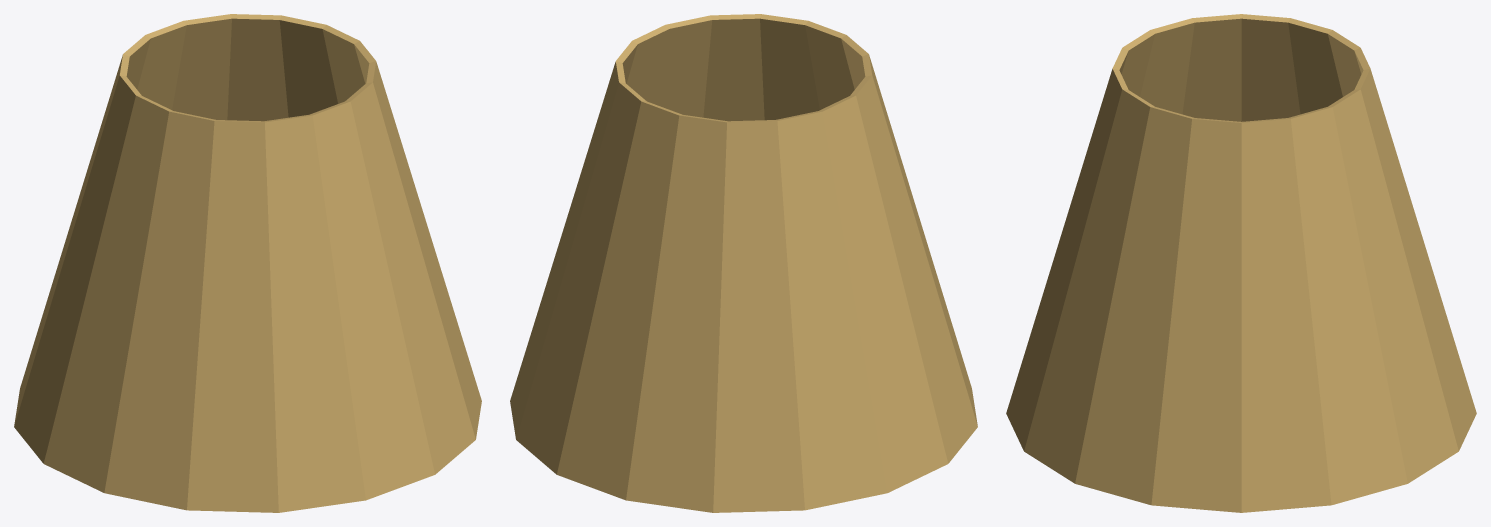
File: Fur_Office_lamp_C_SHADE.fbx
3 views of the same model, side by side, from view 1: azimuth 30°, elevation 25°; view 2: azimuth 150°, elevation 25°; view 3: azimuth 270°, elevation 25° (orthographic).
Parts seen in each view (by area): view 1: Cube; view 2: Cube; view 3: Cube.
Part boxes in pixels (left/top/right/bottom): Cube: left=14, top=14, right=481, bottom=512; Cube: left=510, top=14, right=977, bottom=512; Cube: left=1006, top=14, right=1476, bottom=512.
Size of the model in its own units: 365 by 297 by 365.
